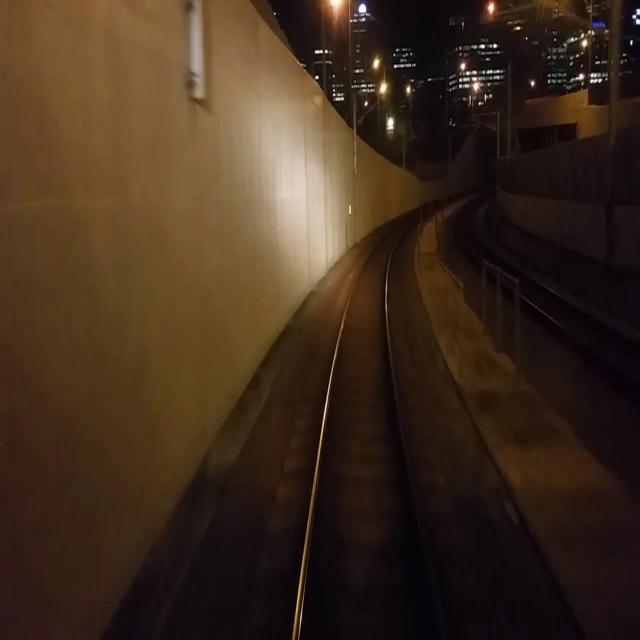rail-track: (304, 199, 450, 575), (457, 194, 640, 381)
